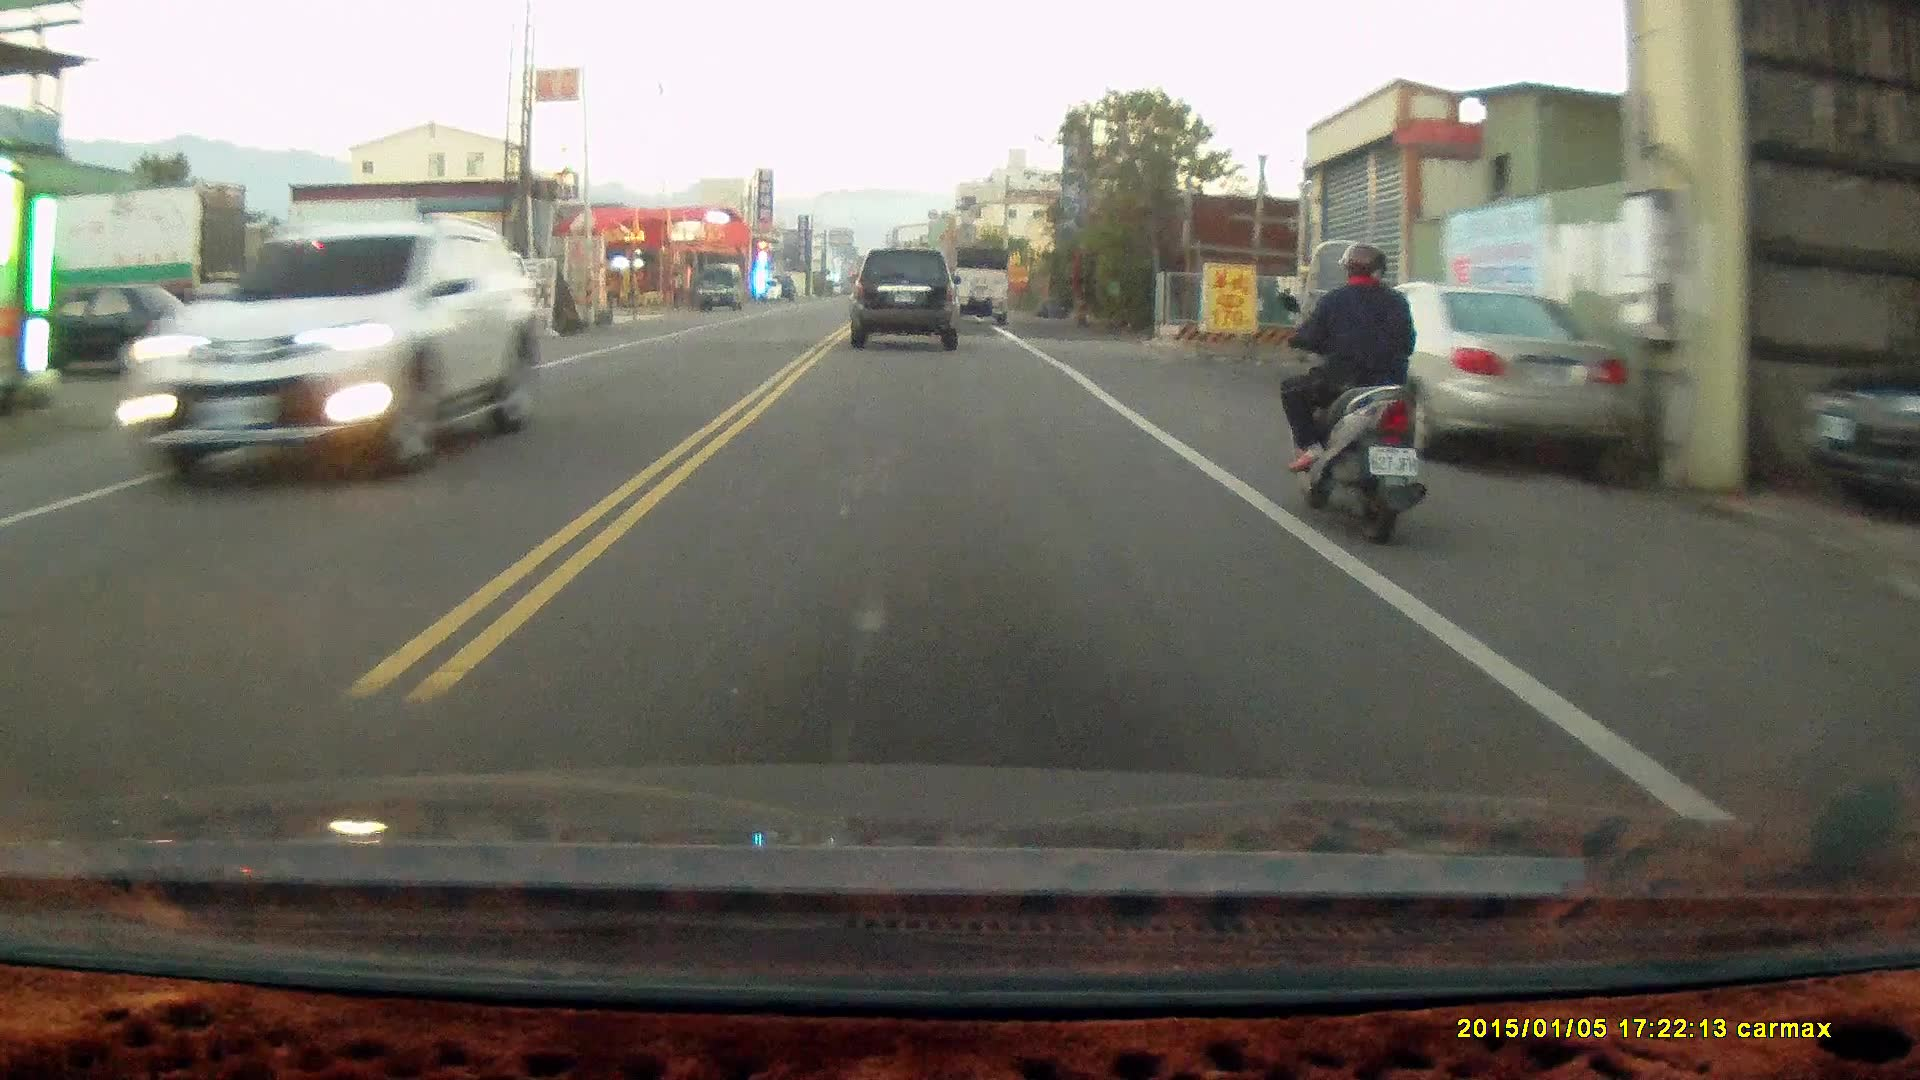rider: (1275, 240, 1424, 546)
vehicle: (98, 221, 529, 493), (1310, 282, 1635, 475), (53, 280, 220, 380), (851, 248, 963, 351), (951, 244, 1013, 324)
